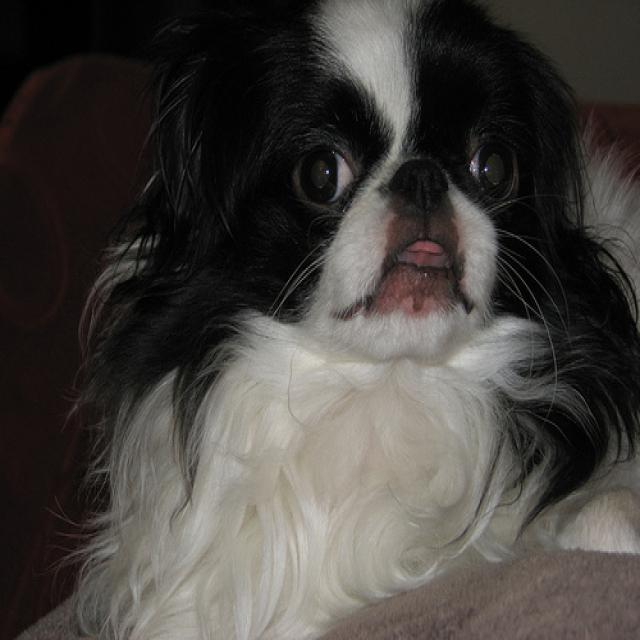dog-japanese_chin: (40, 2, 637, 637)
